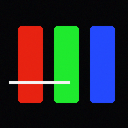3 line_h: (9, 81, 69, 83)
